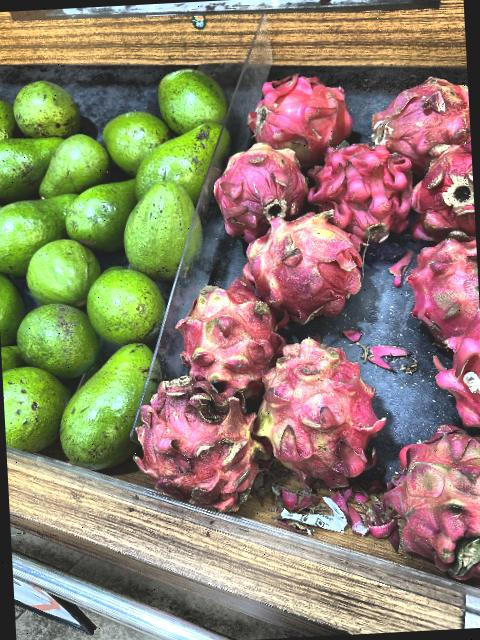buah-naga-belum-matang: (250, 338, 374, 479), (132, 367, 258, 504), (386, 428, 480, 590), (239, 206, 372, 316), (188, 276, 270, 385), (213, 141, 307, 231), (406, 231, 480, 332)
buah-naga-matang: (305, 140, 412, 241), (370, 73, 472, 150), (251, 68, 351, 142), (411, 148, 476, 242), (439, 323, 480, 427)
